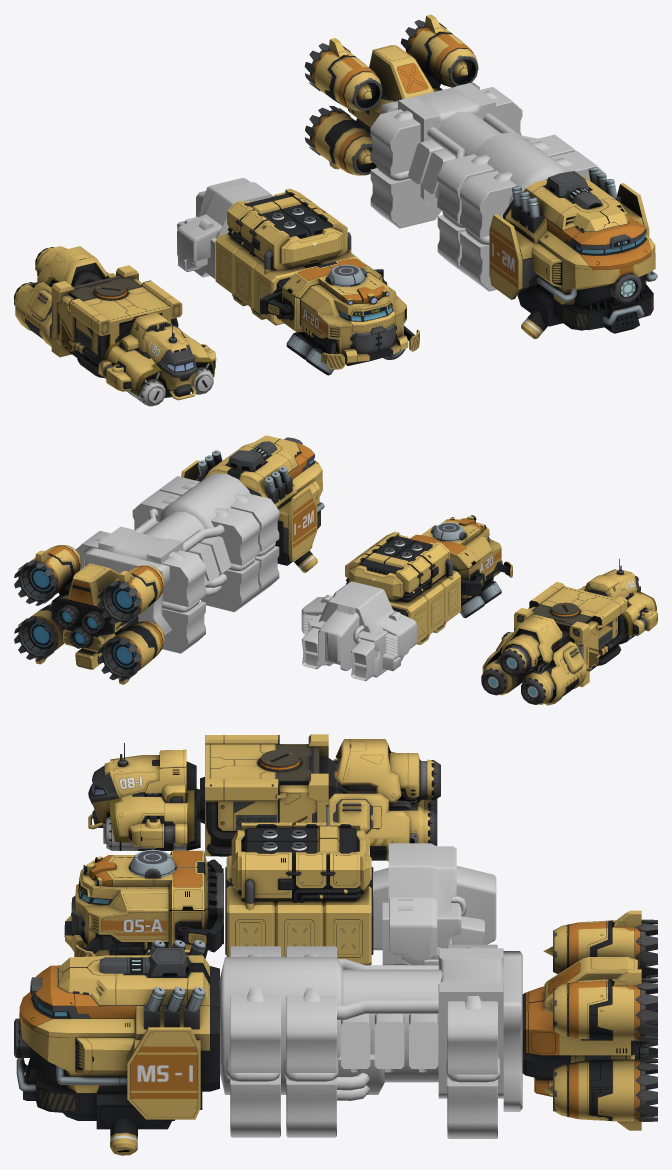
The model's file is yusnhu_he.FBX.
The picture shows the model from 3 angles, top to bottom: view 1: azimuth 30°, elevation 25°; view 2: azimuth 150°, elevation 25°; view 3: azimuth 270°, elevation 25°; orthographic projection. The views are drawn at different scales.
Visible parts, largest first — view 1: dhg003, polySurface310, Line004, Box144, Rectangle004, polySurface313, polySurface311, zwt003, polySurface312; view 2: dhg003, Line004, polySurface310, zwt003, Rectangle004, polySurface312, polySurface313, Box144, polySurface311; view 3: dhg003, polySurface310, Line004, Rectangle004, Box144, zwt003, polySurface313, polySurface311, polySurface312.
Part boxes in pixels (bbox=[...]): dhg003: bbox=[370, 82, 605, 291]; polySurface310: bbox=[489, 167, 657, 339]; Line004: bbox=[304, 14, 478, 175]; Box144: bbox=[260, 258, 419, 375]; Rectangle004: bbox=[215, 188, 360, 325]; polySurface313: bbox=[51, 265, 182, 378]; polySurface311: bbox=[98, 312, 216, 406]; zwt003: bbox=[177, 178, 272, 279]; polySurface312: bbox=[14, 246, 115, 346]; dhg003: bbox=[76, 473, 279, 653]; Line004: bbox=[14, 545, 164, 684]; polySurface310: bbox=[181, 435, 324, 572]; zwt003: bbox=[301, 581, 417, 681]; Rectangle004: bbox=[345, 531, 460, 648]; polySurface312: bbox=[481, 614, 586, 705]; polySurface313: bbox=[514, 582, 627, 687]; Box144: bbox=[410, 515, 512, 618]; polySurface311: bbox=[578, 559, 657, 644]; dhg003: bbox=[219, 944, 522, 1138]; polySurface310: bbox=[14, 940, 219, 1155]; Line004: bbox=[522, 910, 657, 1130]; Rectangle004: bbox=[225, 822, 373, 965]; Box144: bbox=[64, 849, 223, 958]; zwt003: bbox=[373, 843, 496, 965]; polySurface313: bbox=[200, 734, 341, 856]; polySurface311: bbox=[88, 743, 200, 850]; polySurface312: bbox=[328, 739, 440, 861].
Bounding box in the file's own units: 4953 × 1297 × 4126.
